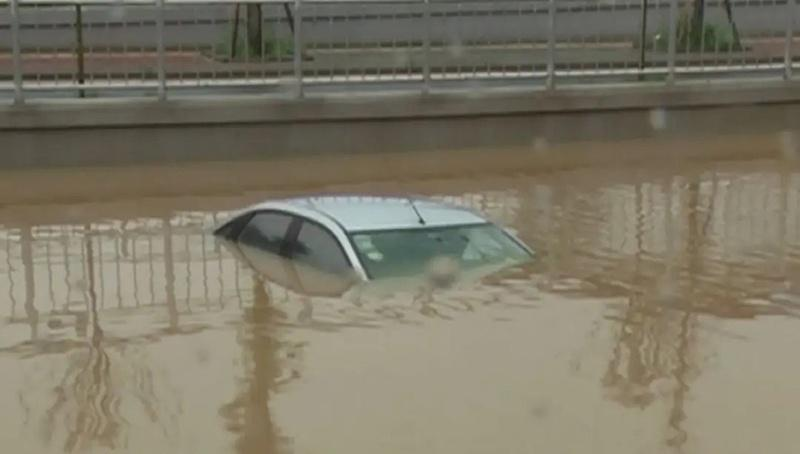water: (0, 100, 799, 453)
